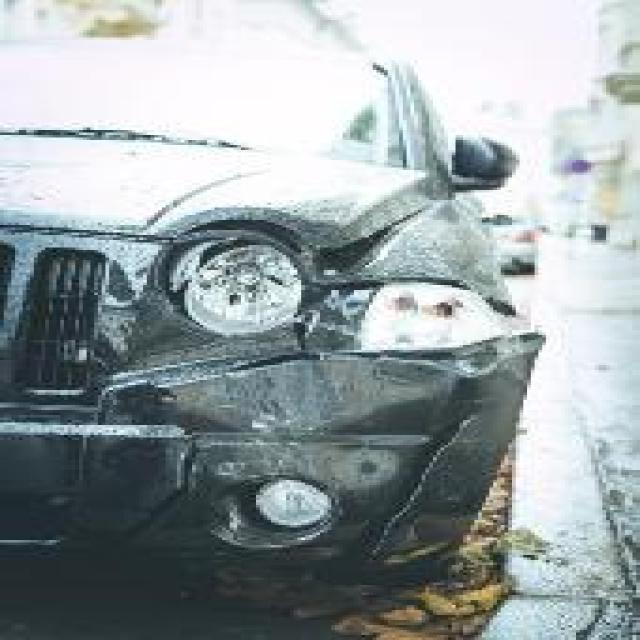Bonnet: (127, 148, 488, 259)
Bumper: (0, 347, 591, 606)
Light: (309, 285, 551, 356), (168, 248, 332, 335)
